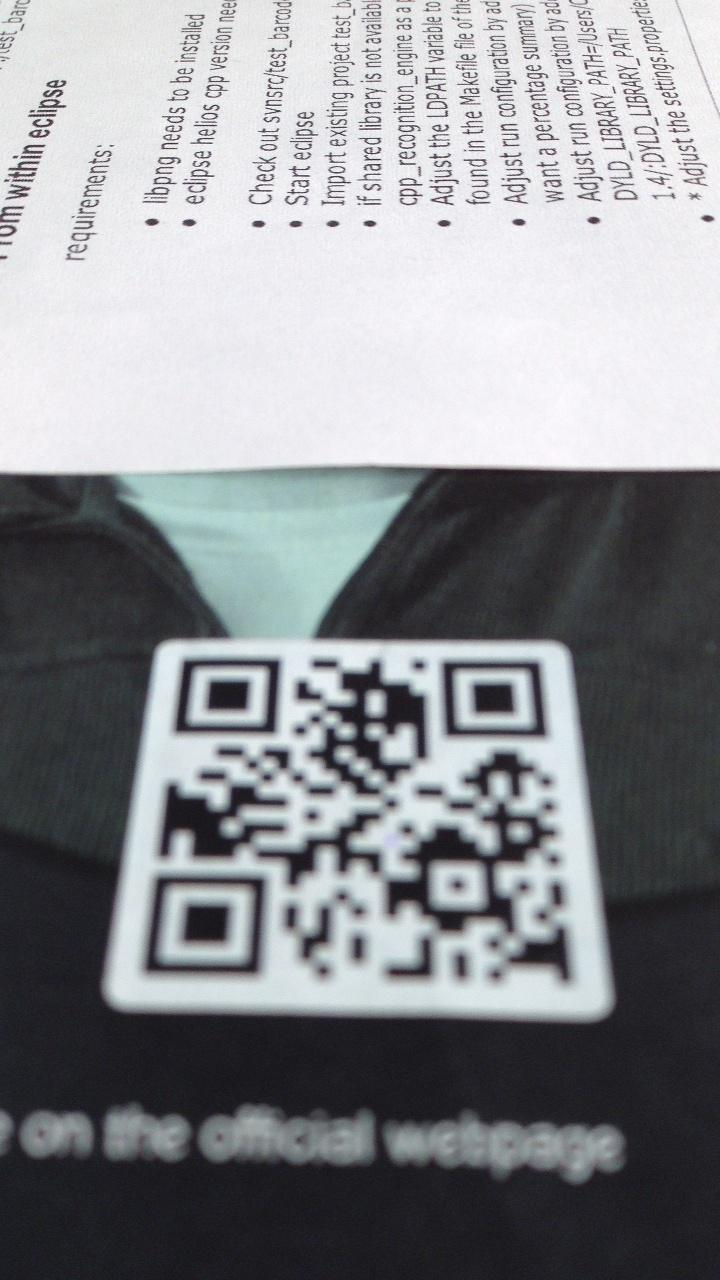Finder pattern: (147, 866, 267, 975), (431, 652, 559, 747), (173, 650, 285, 739)
